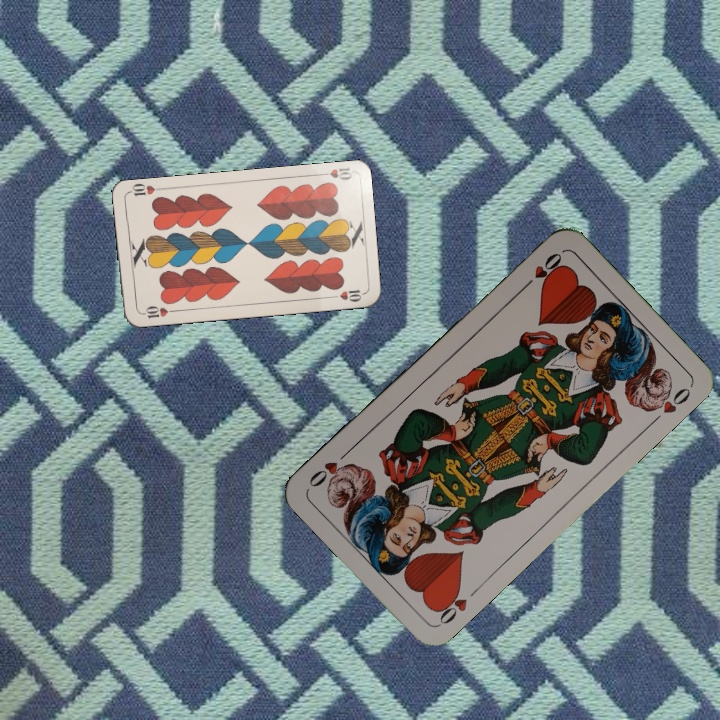H10: (314, 163, 354, 183), (137, 302, 178, 321)
HO: (518, 248, 565, 293), (430, 583, 470, 628)
